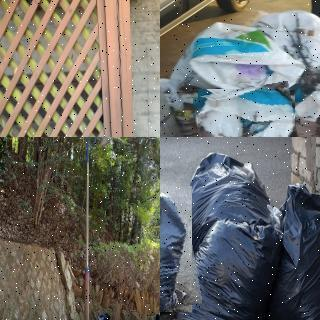Garbage: (176, 208, 282, 320), (172, 22, 307, 106), (179, 151, 277, 246), (273, 185, 320, 320), (194, 85, 298, 137), (160, 182, 196, 315), (96, 308, 113, 320), (155, 309, 160, 320)
